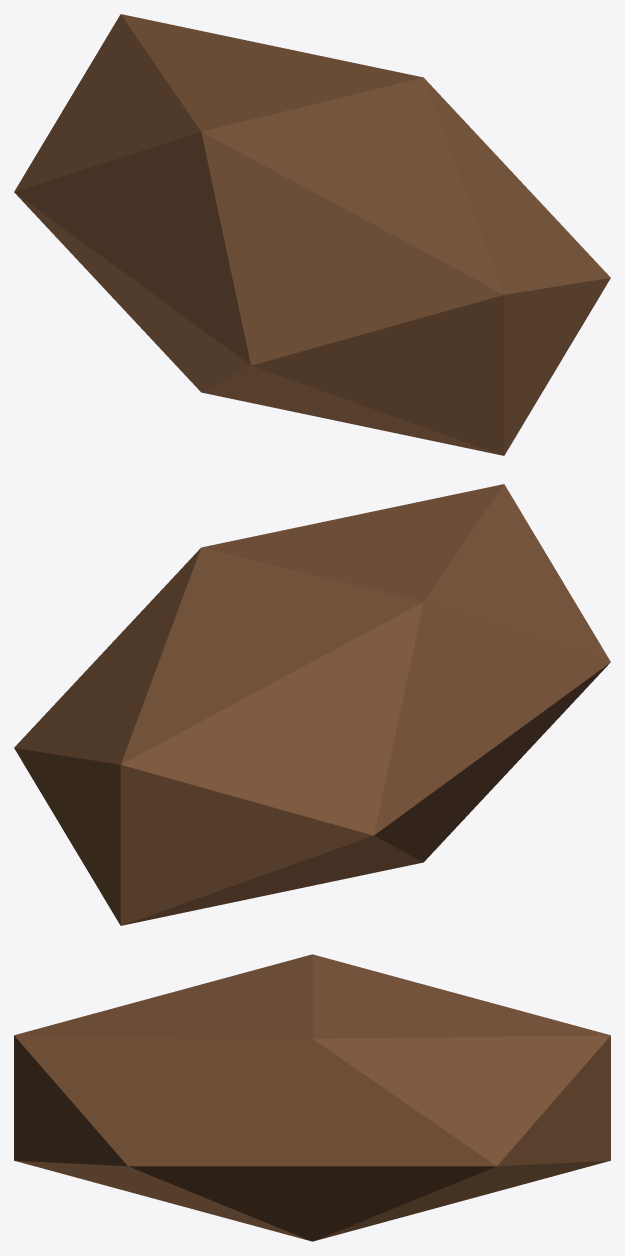
File: dates.glb
3 views of the same model, one above another, from view 1: azimuth 30°, elevation 25°; view 2: azimuth 150°, elevation 25°; view 3: azimuth 270°, elevation 25° (orthographic). The views are drawn at different scales.
Visible parts, largest first — view 1: dates-surface; view 2: dates-surface; view 3: dates-surface.
Boxes of the visible parts, x1=… form: dates-surface: x1=14, y1=14, x2=610, y2=455; dates-surface: x1=14, y1=484, x2=610, y2=925; dates-surface: x1=14, y1=954, x2=610, y2=1241.
Size of the model in its own units: 0.2212 by 0.1531 by 0.4083.
